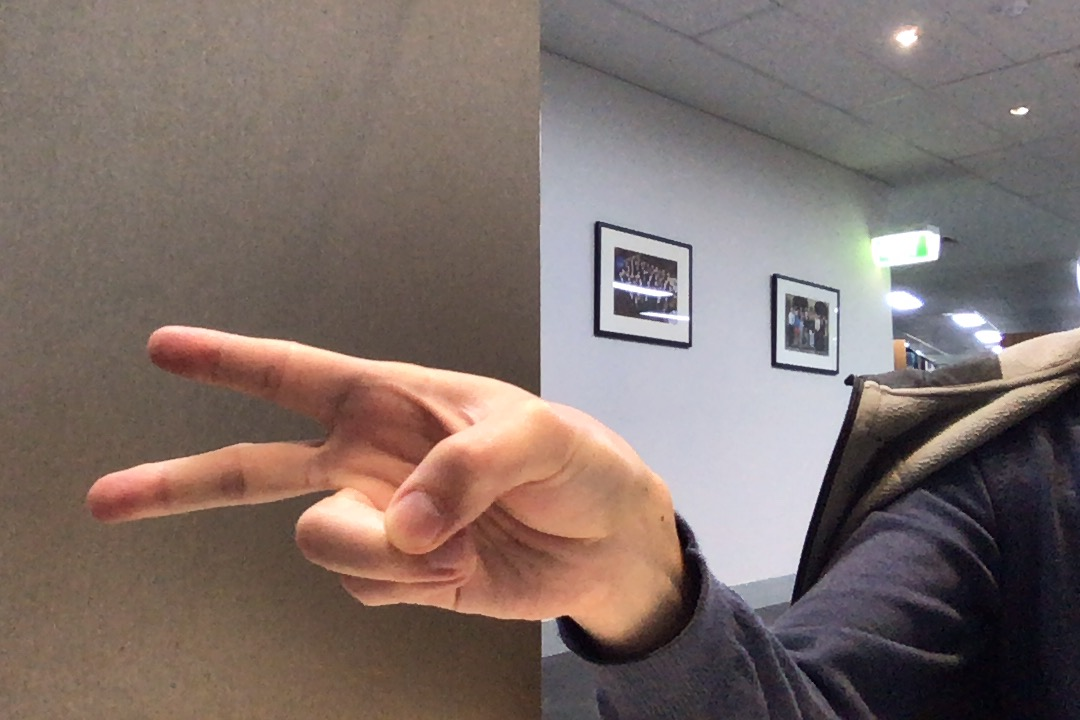peacesign: (76, 314, 690, 650)
